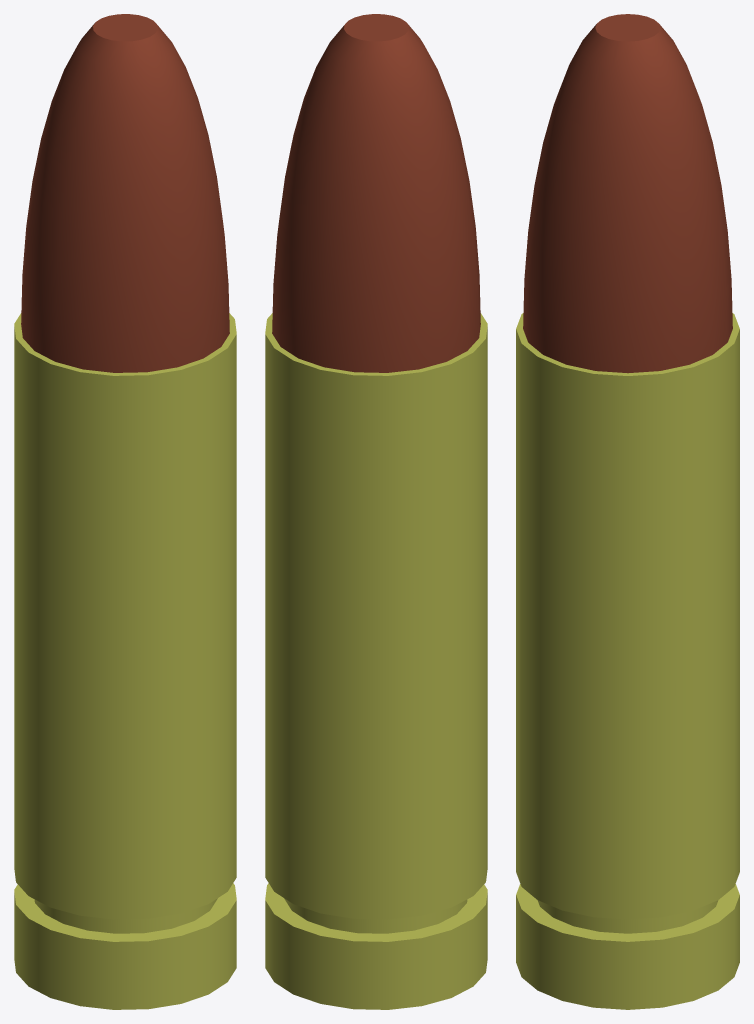
The model's file is Bullet.fbx.
The picture shows the model from 3 angles, left to right: view 1: azimuth 30°, elevation 25°; view 2: azimuth 150°, elevation 25°; view 3: azimuth 270°, elevation 25°; orthographic projection.
Parts seen in each view (by area): view 1: pCylinder99; view 2: pCylinder99; view 3: pCylinder99.
Boxes of the visible parts, <box> form: pCylinder99: <box>14,14,236,1009</box>; pCylinder99: <box>265,14,487,1009</box>; pCylinder99: <box>516,14,739,1009</box>.
Bounding box in the file's own units: 0.64 × 2.98 × 0.64.
